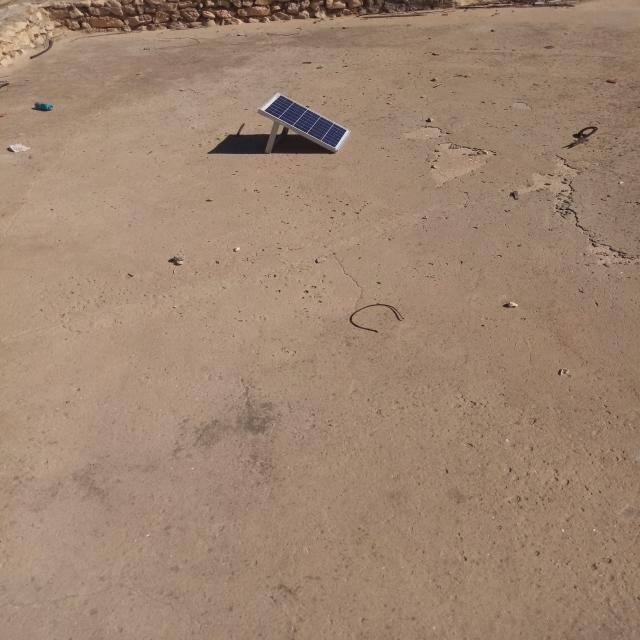no faulty: (259, 92, 351, 151)
